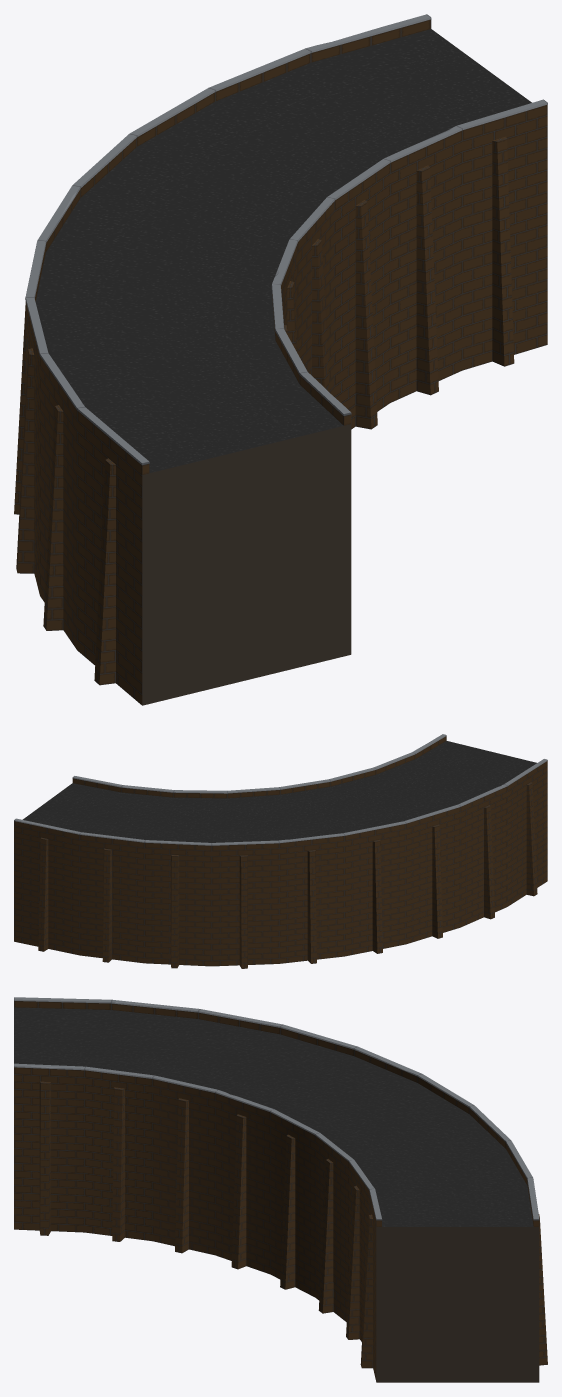
Rendered from SW_ENV_WalledBend_DoubleTrack_90d.fbx.
3 views of the same model, one above another, from view 1: azimuth 30°, elevation 25°; view 2: azimuth 150°, elevation 25°; view 3: azimuth 270°, elevation 25° (orthographic). The views are drawn at different scales.
Visible parts, largest first — view 1: SW_ENV_WalledBend_DoubleTrack_90d; view 2: SW_ENV_WalledBend_DoubleTrack_90d; view 3: SW_ENV_WalledBend_DoubleTrack_90d.
Part boxes in pixels (<box>): SW_ENV_WalledBend_DoubleTrack_90d: <box>14,14,547,705</box>; SW_ENV_WalledBend_DoubleTrack_90d: <box>14,734,547,968</box>; SW_ENV_WalledBend_DoubleTrack_90d: <box>14,997,547,1382</box>.
Bounding box in the file's own units: 32.78 × 11.08 × 32.78.
